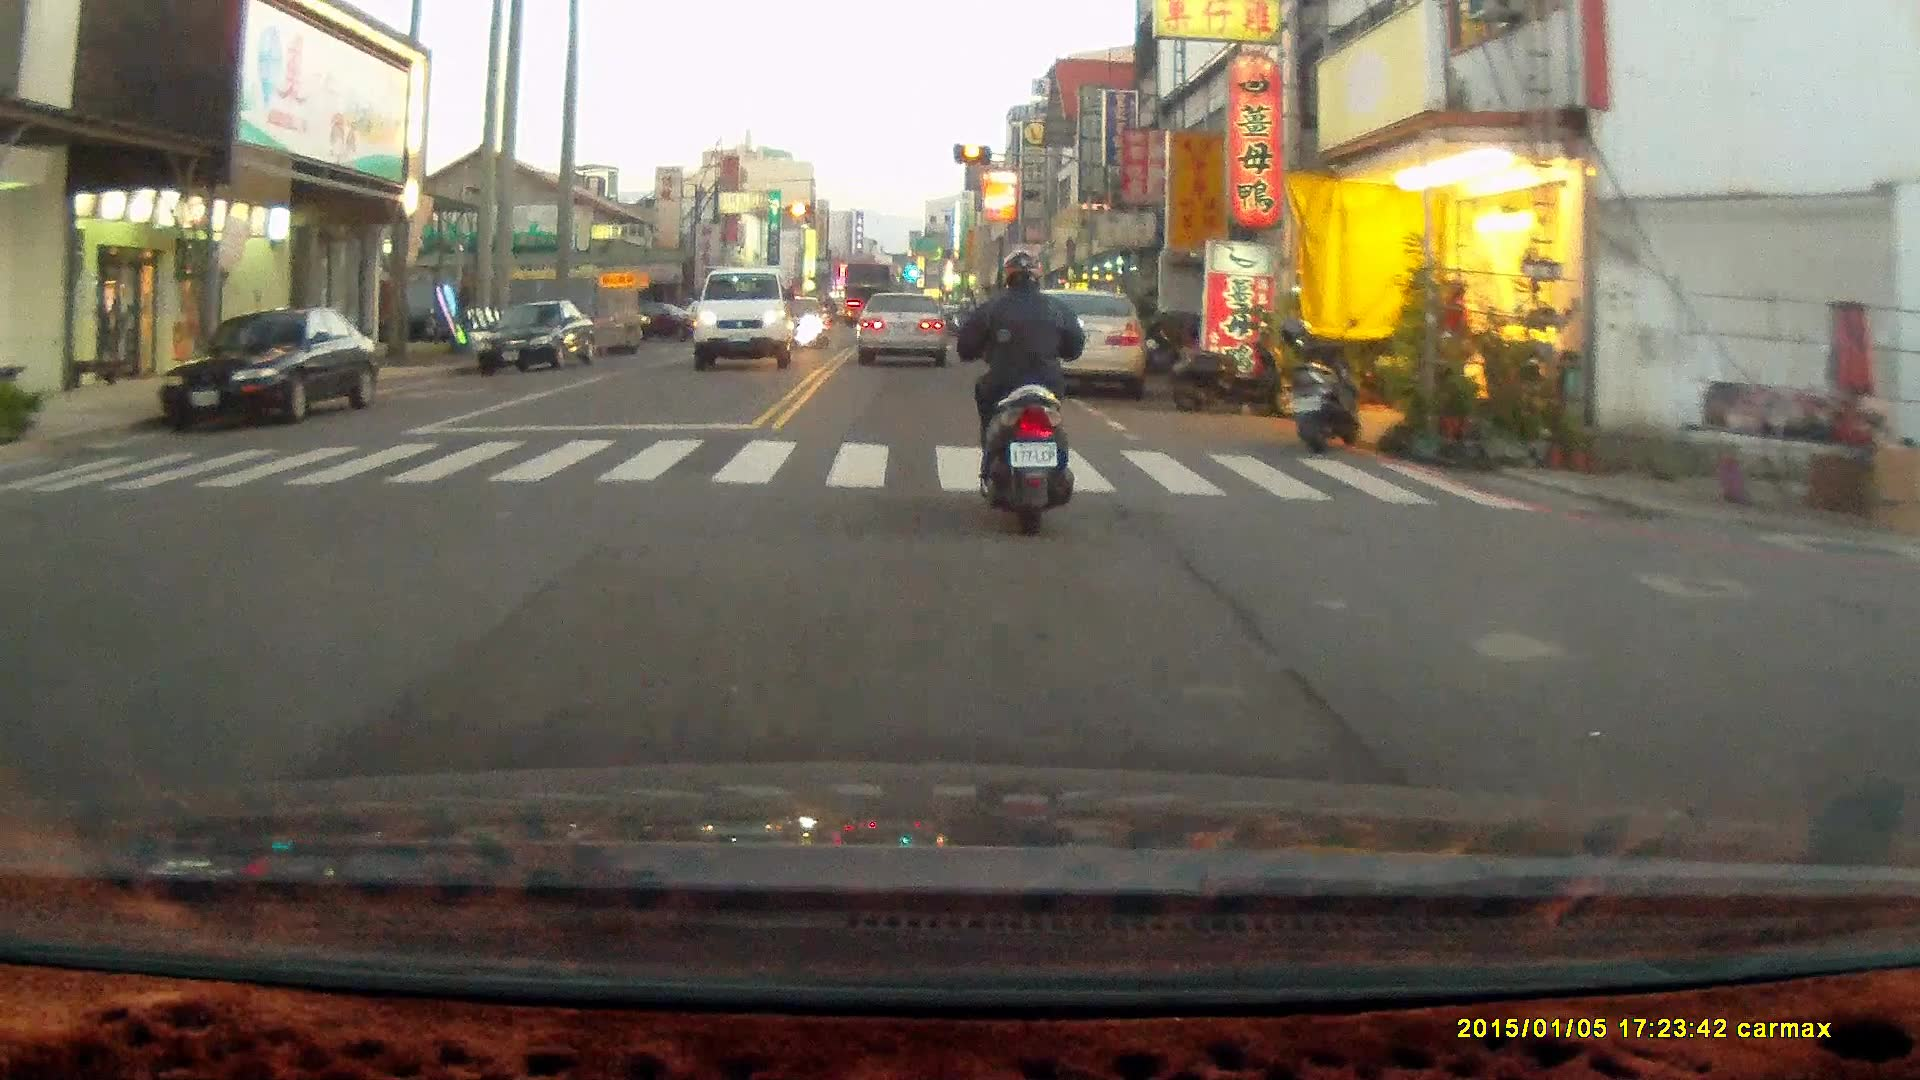pedestrian: (1438, 279, 1472, 395)
rider: (955, 250, 1087, 538)
vehicle: (150, 314, 377, 433), (1019, 291, 1152, 403), (692, 267, 798, 374), (478, 301, 597, 381), (860, 293, 957, 367)
